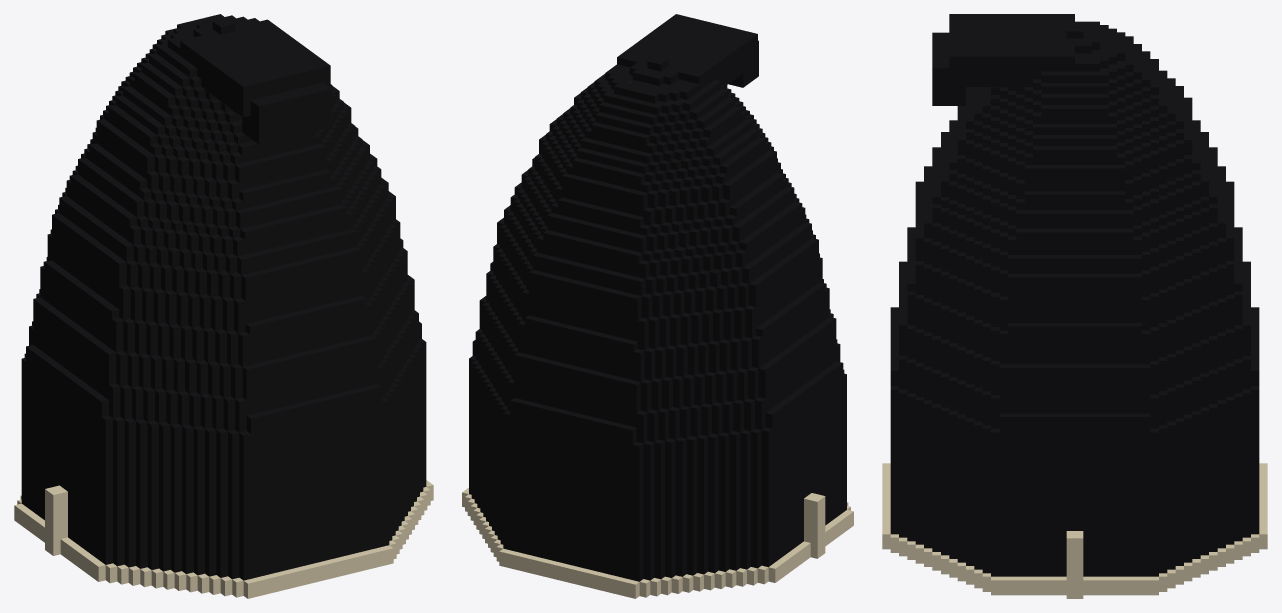
The model's file is eboshi.glb.
The picture shows the model from 3 angles, left to right: view 1: azimuth 30°, elevation 25°; view 2: azimuth 150°, elevation 25°; view 3: azimuth 270°, elevation 25°; orthographic projection. The views are drawn at different scales.
Visible parts, largest first — view 1: eboshi:compound; view 2: eboshi:compound; view 3: eboshi:compound.
Part boxes in pixels (x1,y1,x2,y2): eboshi:compound: [14, 14, 433, 598]; eboshi:compound: [462, 14, 853, 598]; eboshi:compound: [882, 14, 1267, 598].
Size of the model in its own units: 0.192 by 0.256 by 0.184.
